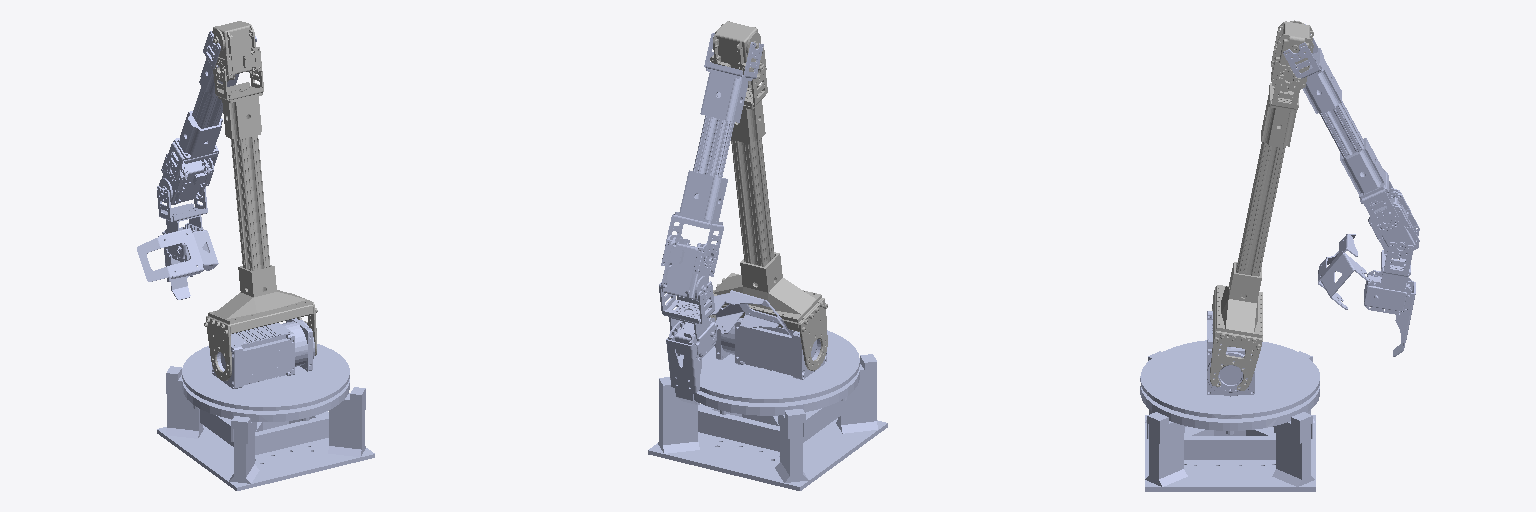
robot.urdf — Robotic_Arm:
<?xml version="1.0" encoding="utf-8"?>
<!-- This URDF was automatically created by SolidWorks to URDF Exporter! Originally created by [author] ([email redacted]) 
     Commit Version: 1.5.0-0-g9aa0fdb  Build Version: 1.5.7004.21443
     For more information, please see http://wiki.ros.org/sw_urdf_exporter -->
<robot
  name="Robotic_Arm">
  <link
    name="base_link">
    <inertial>
      <origin
        xyz="0.077471 -0.13294 0.11201"
        rpy="0 0 0" />
      <mass
        value="0.74796" />
      <inertia
        ixx="0.0022573"
        ixy="2.2339E-07"
        ixz="-8.1079E-08"
        iyy="0.0022579"
        iyz="-1.057E-07"
        izz="0.0039789" />
    </inertial>
    <visual>
      <origin
        xyz="0 0 0"
        rpy="0 0 0" />
      <geometry>
        <mesh
          filename="package://Robotic_Arm/meshes/base_link.STL" />
      </geometry>
      <material
        name="">
        <color
          rgba="0.79216 0.81961 0.93333 1" />
      </material>
    </visual>
    <collision>
      <origin
        xyz="0 0 0"
        rpy="0 0 0" />
      <geometry>
        <mesh
          filename="package://Robotic_Arm/meshes/base_link.STL" />
      </geometry>
    </collision>
  </link>
  <link
    name="arm_link_1">
    <inertial>
      <origin
        xyz="-0.0023986 0.021961 -0.00036542"
        rpy="0 0 0" />
      <mass
        value="0.44911" />
      <inertia
        ixx="0.00052376"
        ixy="1.1533E-09"
        ixz="-4.7849E-08"
        iyy="0.0011151"
        iyz="2.7992E-10"
        izz="0.00072274" />
    </inertial>
    <visual>
      <origin
        xyz="0 0 0"
        rpy="0 0 0" />
      <geometry>
        <mesh
          filename="package://Robotic_Arm/meshes/arm_link_1.STL" />
      </geometry>
      <material
        name="">
        <color
          rgba="0.79216 0.81961 0.93333 1" />
      </material>
    </visual>
    <collision>
      <origin
        xyz="0 0 0"
        rpy="0 0 0" />
      <geometry>
        <mesh
          filename="package://Robotic_Arm/meshes/arm_link_1.STL" />
      </geometry>
    </collision>
  </link>
  <joint
    name="arm_joint_1"
    type="continuous">
    <origin
      xyz="0.077663 -0.13275 0.16758"
      rpy="1.5708 0 0" />
    <parent
      link="base_link" />
    <child
      link="arm_link_1" />
    <axis
      xyz="0 1 0" />
    <limit
      lower="0"
      upper="3.14"
      effort="0"
      velocity="0" />
    <safety_controller
      k_velocity="0" />
  </joint>
  <link
    name="arm_link_2">
    <inertial>
      <origin
        xyz="-0.000500576888316895 0.192519116267856 -0.000265676079619553"
        rpy="0 0 0" />
      <mass
        value="0.421933647074247" />
      <inertia
        ixx="0.00119101878063656"
        ixy="-9.38571195847501E-08"
        ixz="-3.61118369829335E-07"
        iyy="0.000165865664319786"
        iyz="-8.58458961831822E-07"
        izz="0.00112242532449343" />
    </inertial>
    <visual>
      <origin
        xyz="0 0 0"
        rpy="0 0 0" />
      <geometry>
        <mesh
          filename="package://Robotic_Arm/meshes/arm_link_2.STL" />
      </geometry>
      <material
        name="">
        <color
          rgba="0.752941176470588 0.752941176470588 0.752941176470588 1" />
      </material>
    </visual>
    <collision>
      <origin
        xyz="0 0 0"
        rpy="0 0 0" />
      <geometry>
        <mesh
          filename="package://Robotic_Arm/meshes/arm_link_2.STL" />
      </geometry>
    </collision>
  </link>
  <joint
    name="arm_joint_2"
    type="continuous">
    <origin
      xyz="-0.0023104 0.032 -0.00054816"
      rpy="-1.5708 -1.3894 1.5708" />
    <parent
      link="arm_link_1" />
    <child
      link="arm_link_2" />
    <axis
      xyz="0 0 1" />
    <safety_controller
      k_velocity="0" />
  </joint>
  <link
    name="arm_link_3">
    <inertial>
      <origin
        xyz="0.00088882 0.15812 0.00071071"
        rpy="0 0 0" />
      <mass
        value="0.25828" />
      <inertia
        ixx="0.00027832"
        ixy="-8.812E-07"
        ixz="-1.4423E-11"
        iyy="5.4616E-05"
        iyz="-8.6935E-09"
        izz="0.00029095" />
    </inertial>
    <visual>
      <origin
        xyz="0 0 0"
        rpy="0 0 0" />
      <geometry>
        <mesh
          filename="package://Robotic_Arm/meshes/arm_link_3.STL" />
      </geometry>
      <material
        name="">
        <color
          rgba="0.79216 0.81961 0.93333 1" />
      </material>
    </visual>
    <collision>
      <origin
        xyz="0 0 0"
        rpy="0 0 0" />
      <geometry>
        <mesh
          filename="package://Robotic_Arm/meshes/arm_link_3.STL" />
      </geometry>
    </collision>
  </link>
  <joint
    name="arm_joint_3"
    type="continuous">
    <origin
      xyz="-0.0011 0.391 0.0013878"
      rpy="2.5049 -1.5708 0" />
    <parent
      link="arm_link_2" />
    <child
      link="arm_link_3" />
    <axis
      xyz="1 0 0" />
    <safety_controller
      k_velocity="0" />
  </joint>
  <link
    name="arm_link_4">
    <inertial>
      <origin
        xyz="0.00043251 0.065624 0.00078915"
        rpy="0 0 0" />
      <mass
        value="0.059133" />
      <inertia
        ixx="1.4968E-05"
        ixy="4.3637E-13"
        ixz="1.8275E-07"
        iyy="1.725E-05"
        iyz="-6.5009E-09"
        izz="1.5087E-05" />
    </inertial>
    <visual>
      <origin
        xyz="0 0 0"
        rpy="0 0 0" />
      <geometry>
        <mesh
          filename="package://Robotic_Arm/meshes/arm_link_4.STL" />
      </geometry>
      <material
        name="">
        <color
          rgba="0.79216 0.81961 0.93333 1" />
      </material>
    </visual>
    <collision>
      <origin
        xyz="0 0 0"
        rpy="0 0 0" />
      <geometry>
        <mesh
          filename="package://Robotic_Arm/meshes/arm_link_4.STL" />
      </geometry>
    </collision>
  </link>
  <joint
    name="arm_joint_4"
    type="continuous">
    <origin
      xyz="0.0034 0.2704 0.0011"
      rpy="0.63673 0 0" />
    <parent
      link="arm_link_3" />
    <child
      link="arm_link_4" />
    <axis
      xyz="1 0 0" />
    <safety_controller
      k_velocity="0" />
  </joint>
  <link
    name="arm_link_end">
    <inertial>
      <origin
        xyz="-7.7521E-10 0.012073 0.03756"
        rpy="0 0 0" />
      <mass
        value="0.0085149" />
      <inertia
        ixx="6.9141E-06"
        ixy="1.3475E-14"
        ixz="1.7911E-13"
        iyy="8.6264E-06"
        iyz="-2.0833E-06"
        izz="4.4015E-06" />
    </inertial>
    <visual>
      <origin
        xyz="0 0 0"
        rpy="0 0 0" />
      <geometry>
        <mesh
          filename="package://Robotic_Arm/meshes/arm_link_end.STL" />
      </geometry>
      <material
        name="">
        <color
          rgba="0.79216 0.81961 0.93333 1" />
      </material>
    </visual>
    <collision>
      <origin
        xyz="0 0 0"
        rpy="0 0 0" />
      <geometry>
        <mesh
          filename="package://Robotic_Arm/meshes/arm_link_end.STL" />
      </geometry>
    </collision>
  </link>
  <joint
    name="arm_joint_end"
    type="continuous">
    <origin
      xyz="0.00325 0.061354 0.032315"
      rpy="-1.0865 0 0" />
    <parent
      link="arm_link_4" />
    <child
      link="arm_link_end" />
    <axis
      xyz="1 0 0" />
    <safety_controller
      k_velocity="0" />
  </joint>
</robot>

--- Facts derived from the render (not from the file) ---
Views: 3 orthographic renders of the robot side by side, from view 1: azimuth 30°, elevation 25°; view 2: azimuth 150°, elevation 25°; view 3: azimuth 270°, elevation 25°.
Model Robotic_Arm with 6 links and 5 joints (5 continuous), rooted at base_link, posed every joint at zero.
Links seen in each view (by area): view 1: base_link, arm_link_2, arm_link_1, arm_link_3, arm_link_end, arm_link_4; view 2: base_link, arm_link_2, arm_link_3, arm_link_1, arm_link_4, arm_link_end; view 3: base_link, arm_link_2, arm_link_1, arm_link_3, arm_link_4, arm_link_end.
Link boxes in pixels (x1,y1,x2,y2): base_link: (157,366,374,490); arm_link_2: (204,21,317,380); arm_link_1: (182,318,349,410); arm_link_3: (159,31,256,204); arm_link_end: (137,228,218,281); arm_link_4: (157,186,208,299); base_link: (648,354,887,490); arm_link_2: (709,21,827,370); arm_link_3: (661,33,763,301); arm_link_1: (678,317,859,402); arm_link_4: (659,281,716,404); arm_link_end: (707,290,792,337); base_link: (1140,351,1319,491); arm_link_2: (1210,20,1313,390); arm_link_1: (1140,311,1319,418); arm_link_3: (1283,24,1419,258); arm_link_4: (1364,242,1415,356); arm_link_end: (1318,234,1370,309).
Size in the robot's own frame: 0.2 by 0.3104 by 0.5232 metres.
Meshes: 6 distinct files referenced, 6 mesh visuals loaded (6 binary STL).